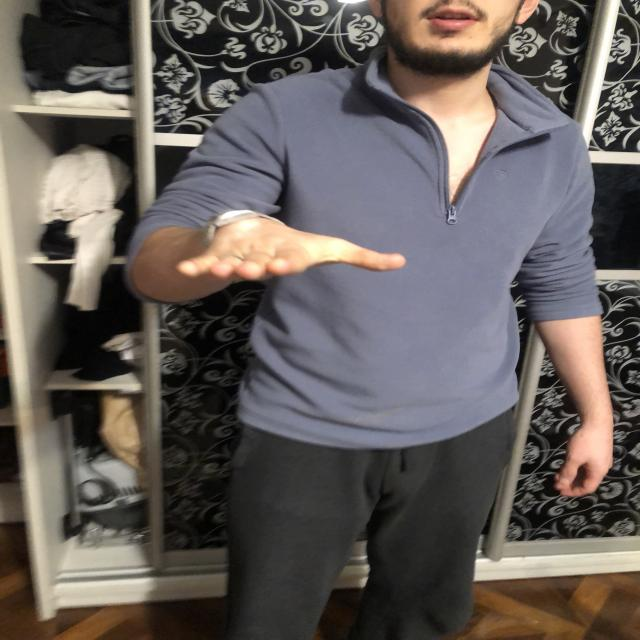paper: (179, 228, 405, 275)
